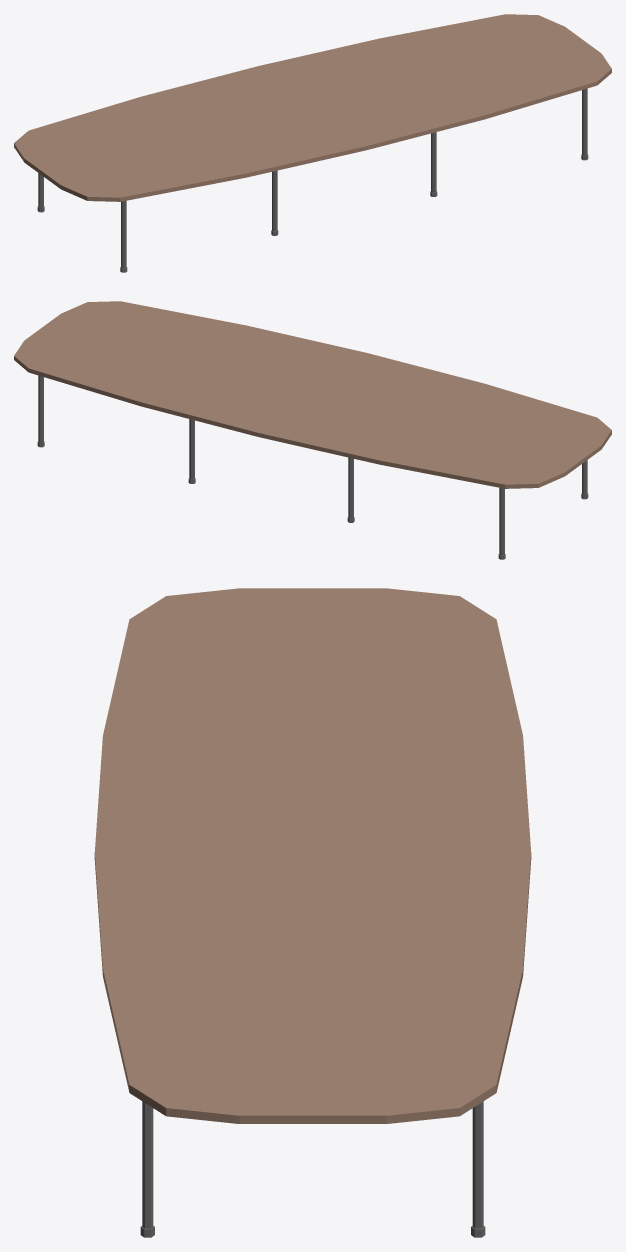
Rendered from table4.fbx.
The picture shows the model from 3 angles, top to bottom: view 1: azimuth 30°, elevation 25°; view 2: azimuth 150°, elevation 25°; view 3: azimuth 270°, elevation 25°; orthographic projection. The views are drawn at different scales.
Visible parts, largest first — view 1: Cube; view 2: Cube; view 3: Cube.
Boxes of the visible parts, bbox=[...] form: Cube: bbox=[14, 14, 611, 272]; Cube: bbox=[14, 301, 611, 559]; Cube: bbox=[94, 588, 531, 1237].
Bounding box in the file's own units: 680 × 95 × 238.
